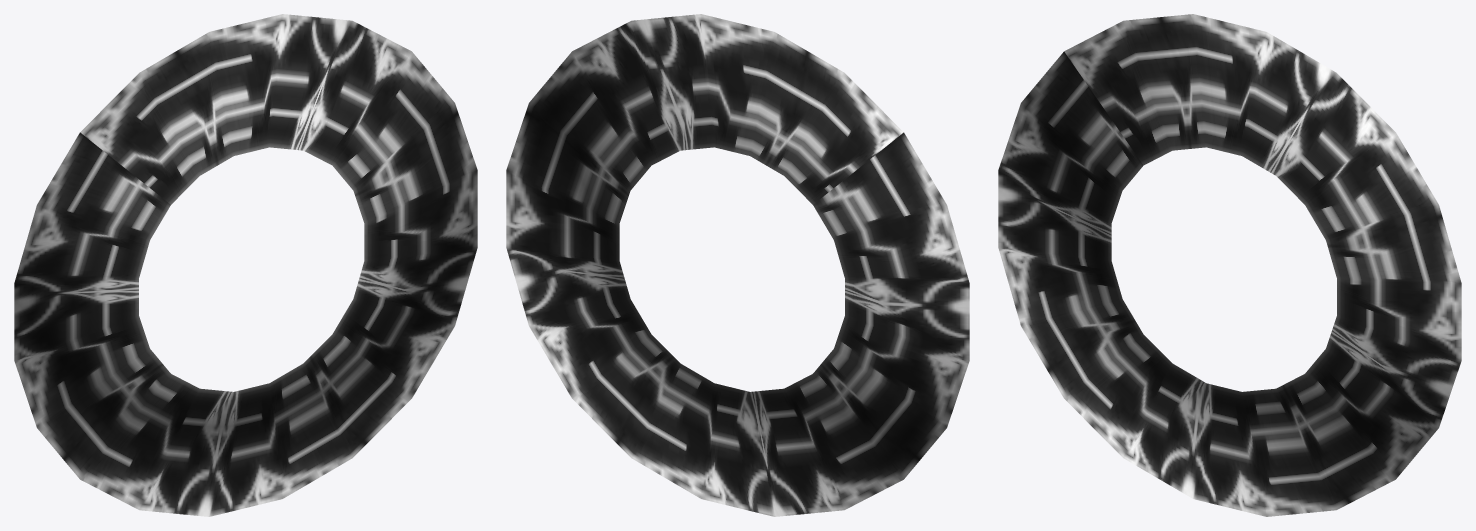
File: elshildring2.glb
The picture shows the model from 3 angles, left to right: view 1: azimuth 30°, elevation 25°; view 2: azimuth 150°, elevation 25°; view 3: azimuth 330°, elevation 25°; orthographic projection.
Visible parts, largest first — view 1: model_elshildring2; view 2: model_elshildring2; view 3: model_elshildring2.
Part boxes in pixels (bbox=[...]): model_elshildring2: bbox=[14, 14, 477, 516]; model_elshildring2: bbox=[506, 14, 969, 516]; model_elshildring2: bbox=[998, 14, 1461, 516].
Size of the model in its own units: 2.18 by 2.18 by 0.0934.
1 material, 1 textured.
